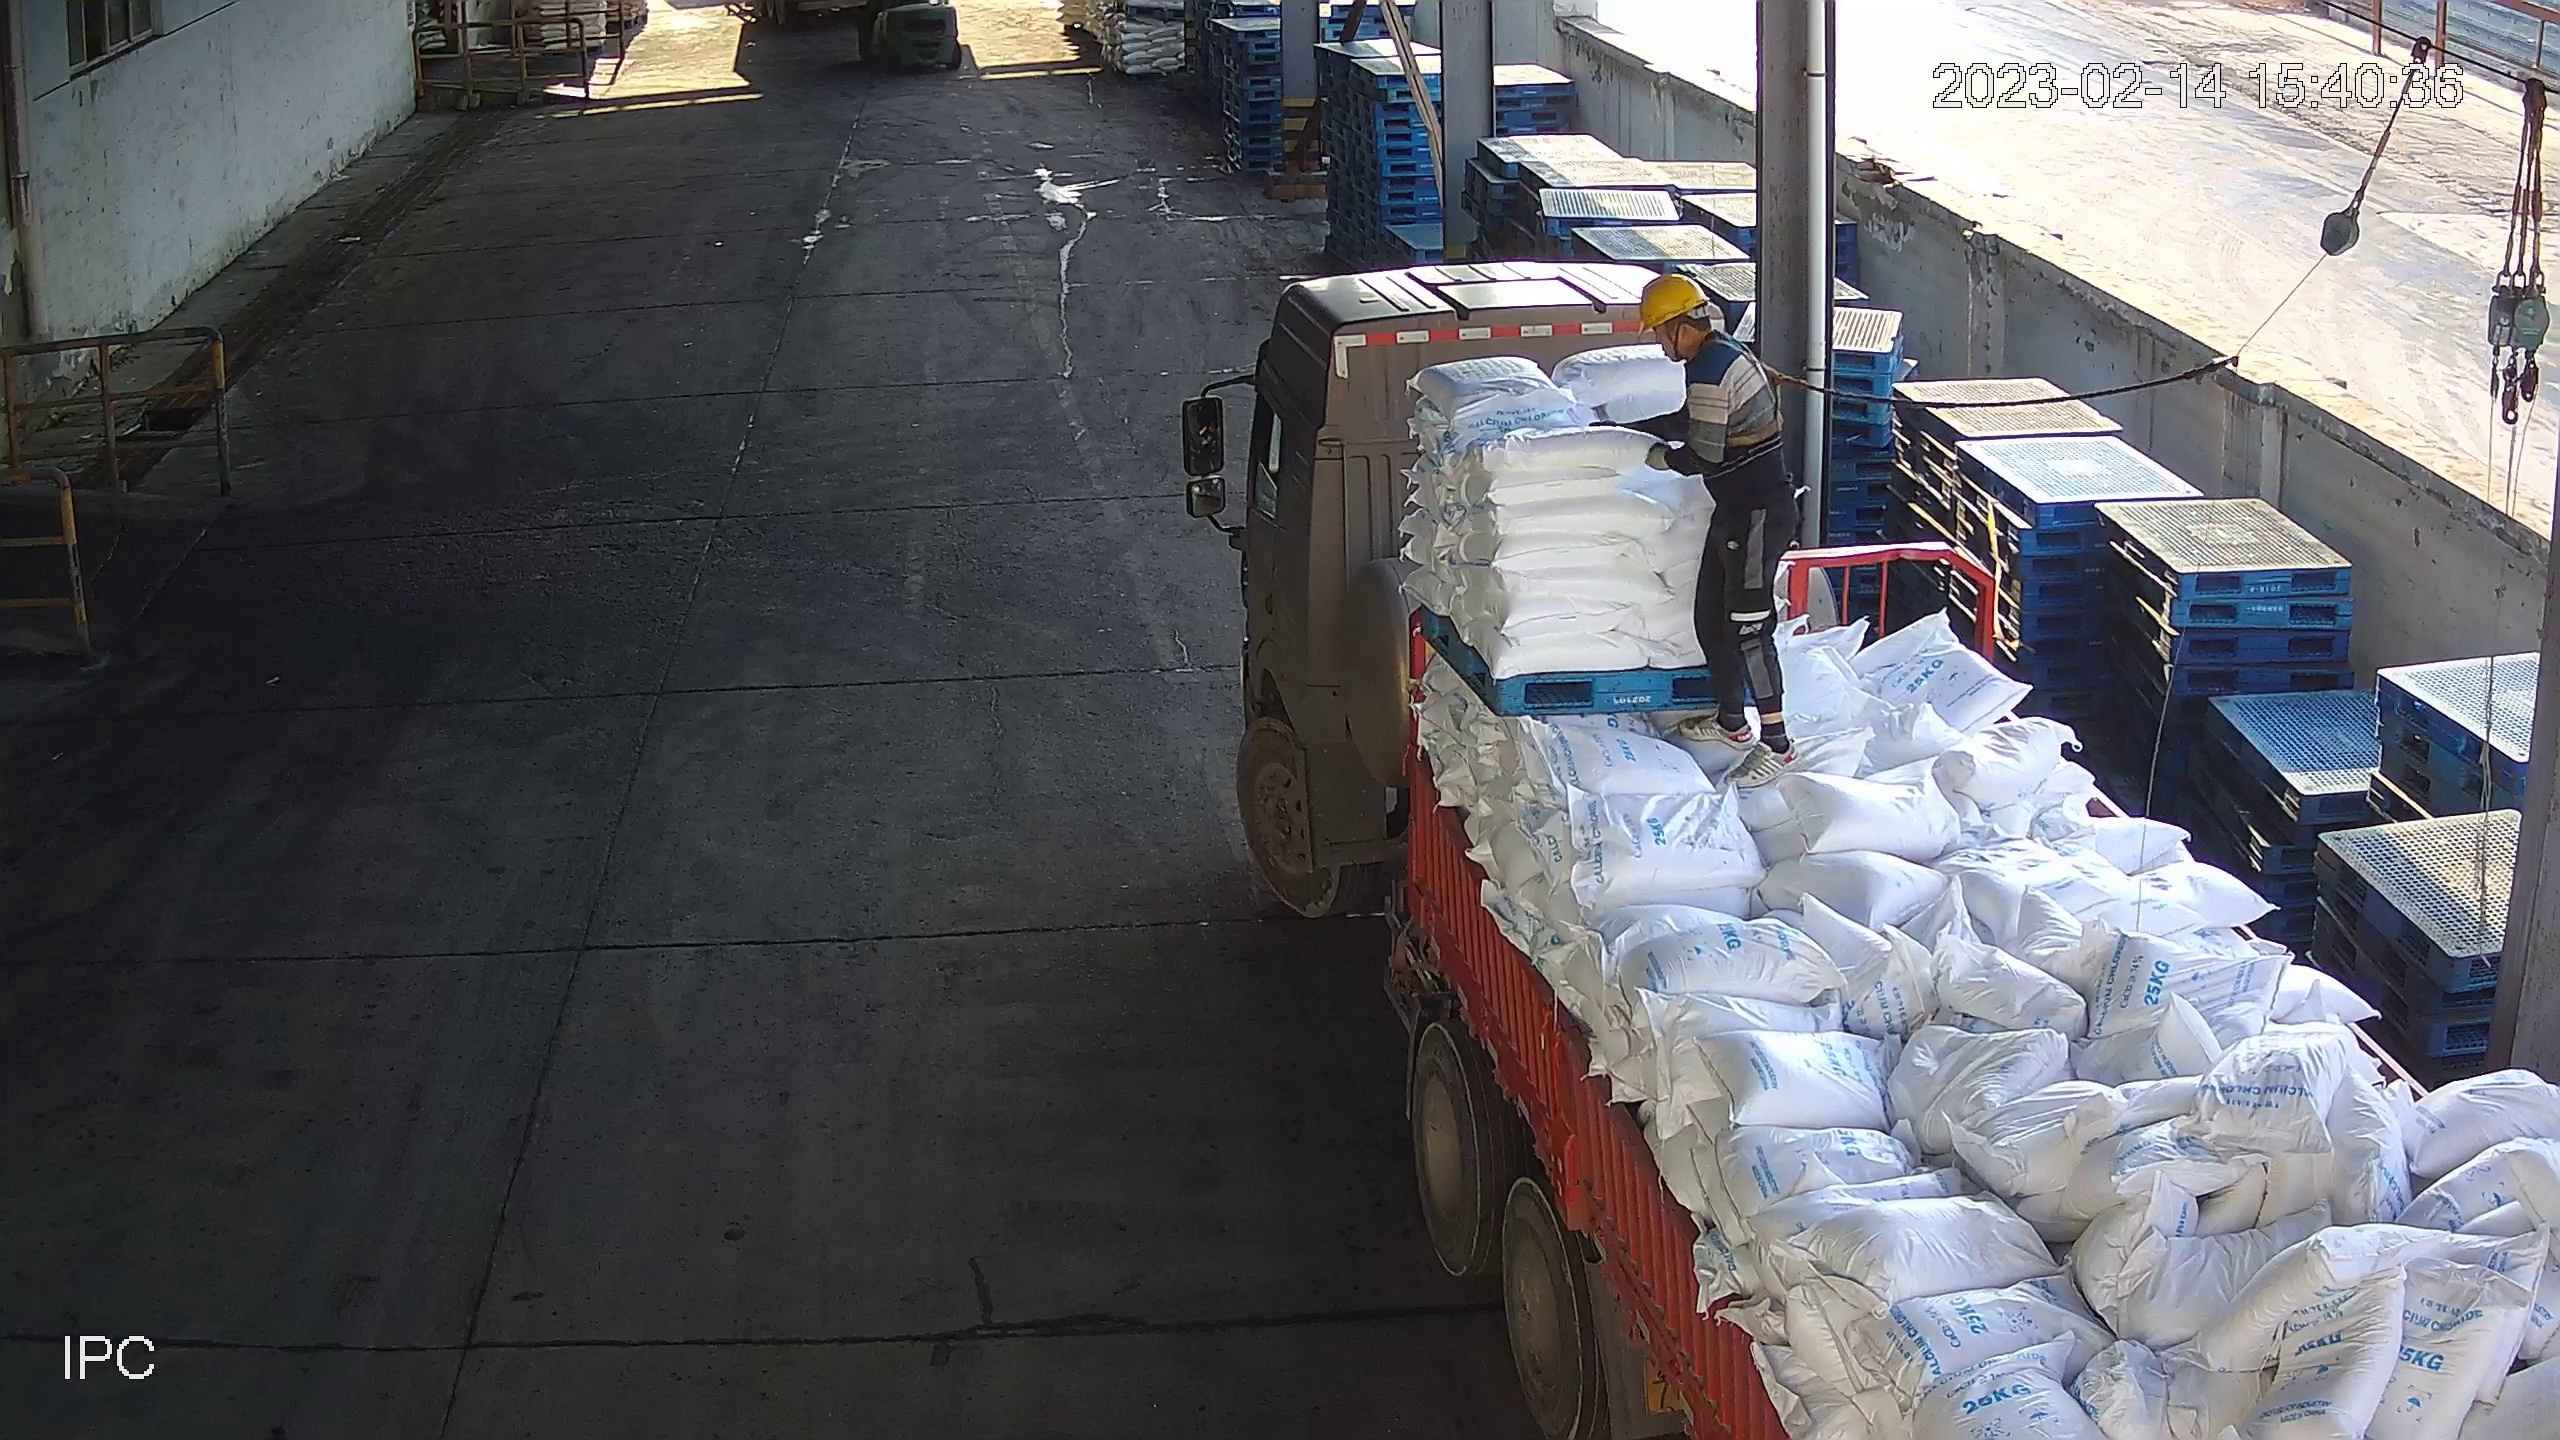belt: (1697, 339, 1813, 450)
head: (1627, 276, 1760, 383)
helmet: (1630, 276, 1707, 329)
people: (1618, 272, 1813, 793)
truck: (1170, 251, 2560, 1440)
